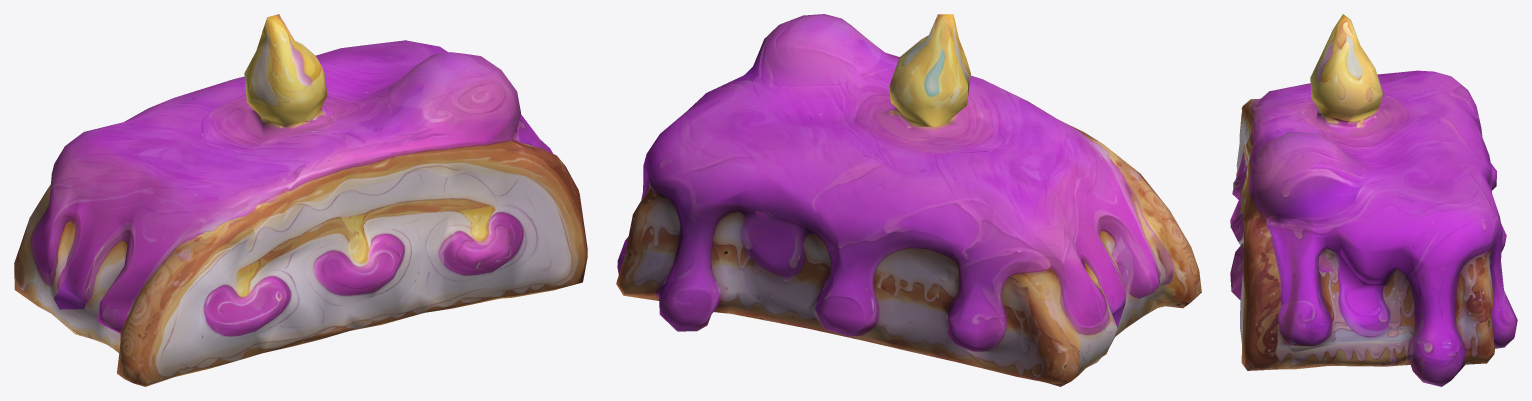
The model's file is cinabon_Mesh.fbx.
3 views of the same model, side by side, from view 1: azimuth 30°, elevation 25°; view 2: azimuth 150°, elevation 25°; view 3: azimuth 270°, elevation 25° (orthographic). The views are drawn at different scales.
Parts seen in each view (by area): view 1: cake_Mesh; view 2: cake_Mesh; view 3: cake_Mesh.
Boxes of the visible parts, box(x1,y1,x2,y2) form: cake_Mesh: box(14, 14, 587, 386); cake_Mesh: box(616, 14, 1201, 386); cake_Mesh: box(1230, 14, 1517, 386).
Size of the model in its own units: 116 by 68.88 by 69.4.
